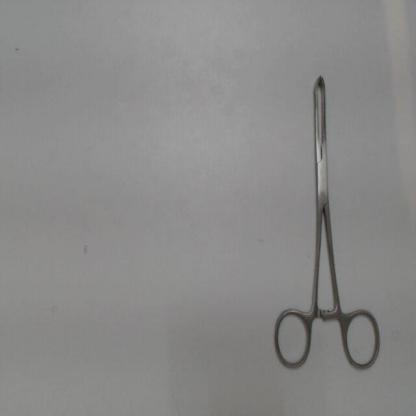Allis Tissue Forceps: (269, 65, 387, 376)
